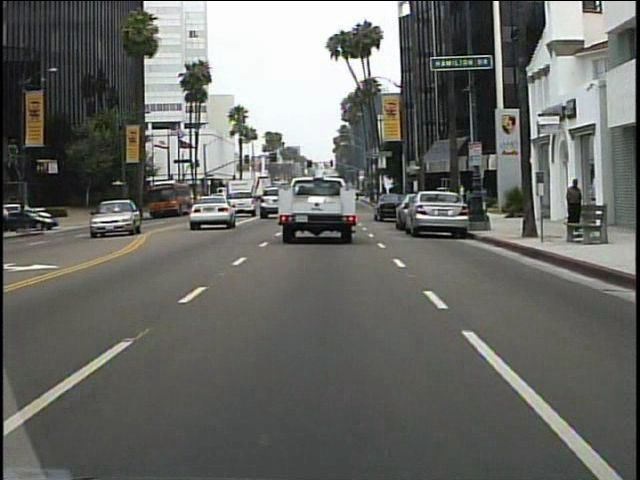person: (560, 176, 586, 233), (107, 193, 122, 222)
